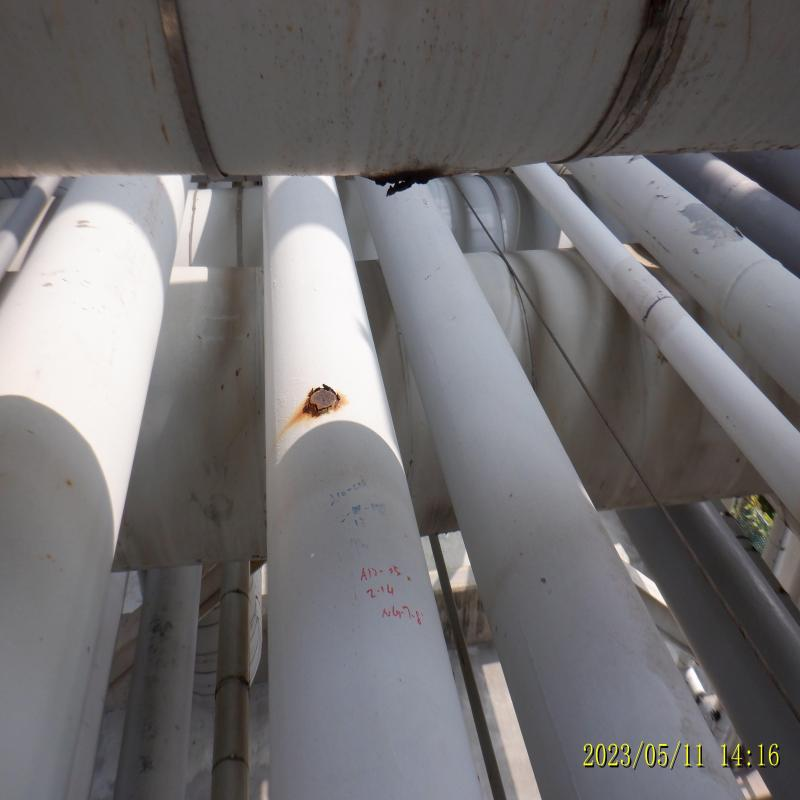corrosion: (307, 375, 337, 414)
